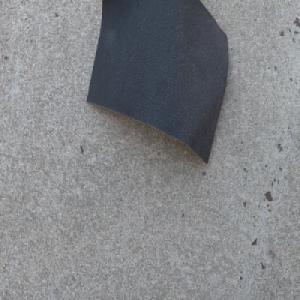PaintChip: (86, 0, 228, 167)
